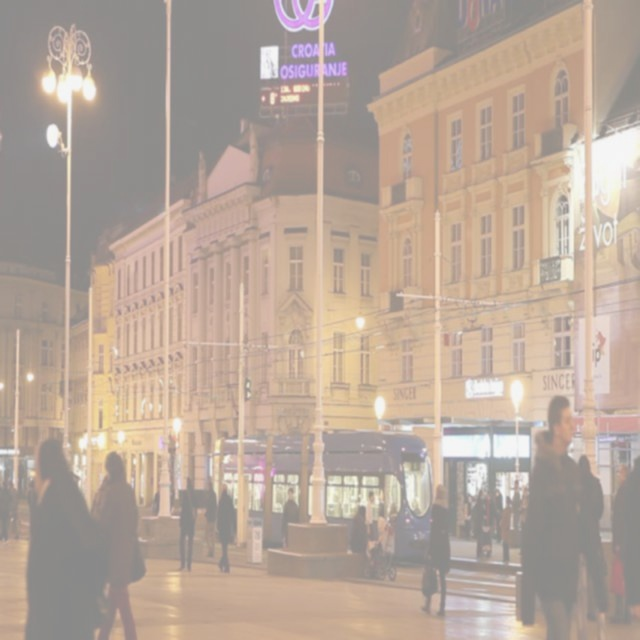pessoa: (514, 391, 592, 638), (22, 434, 94, 638), (97, 449, 140, 639), (605, 454, 637, 628), (576, 454, 609, 614), (419, 479, 454, 622), (213, 480, 238, 576), (175, 472, 198, 574), (0, 464, 19, 546), (280, 486, 300, 554), (203, 481, 218, 558), (473, 487, 487, 562), (498, 493, 513, 563), (516, 484, 530, 556), (350, 504, 370, 554), (364, 488, 376, 561), (628, 453, 640, 518), (247, 120, 259, 184), (509, 477, 522, 535), (482, 488, 498, 535), (464, 493, 476, 544), (494, 488, 504, 546), (195, 149, 205, 207), (26, 480, 34, 532), (289, 300, 301, 328), (410, 493, 422, 518), (151, 483, 160, 516), (388, 499, 399, 522), (168, 486, 175, 518), (18, 458, 23, 498)
